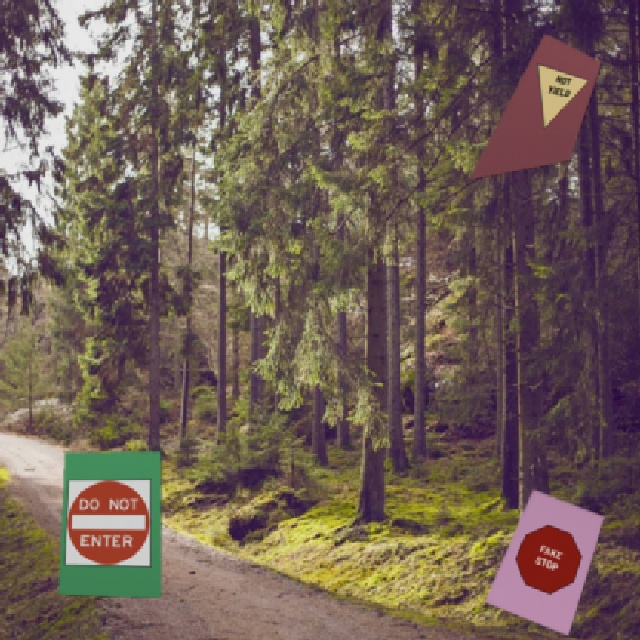DO_NOT_ENTER: (63, 479, 149, 566)
FAKE_STOP: (506, 515, 587, 600)
NOT_YIELD: (504, 61, 590, 133)
